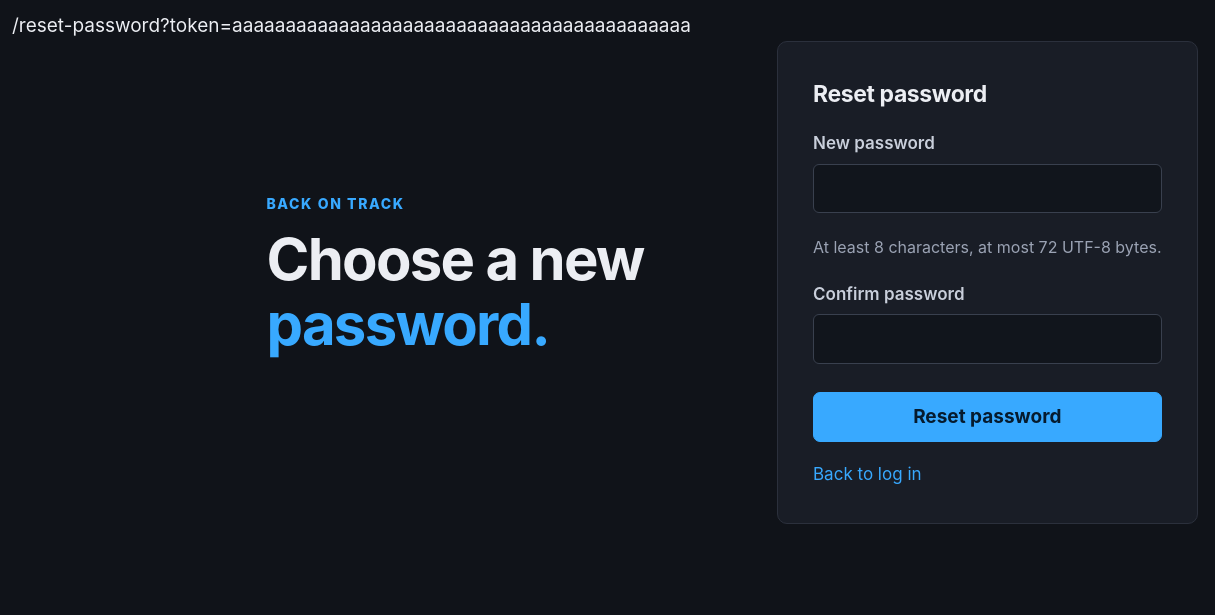
keeps the reset credential out of storage and validates confirmation
Type "new-password" into the password field labelled "New password".
click(987, 188); type("new-password")  # box 813,164 -> 1162,213
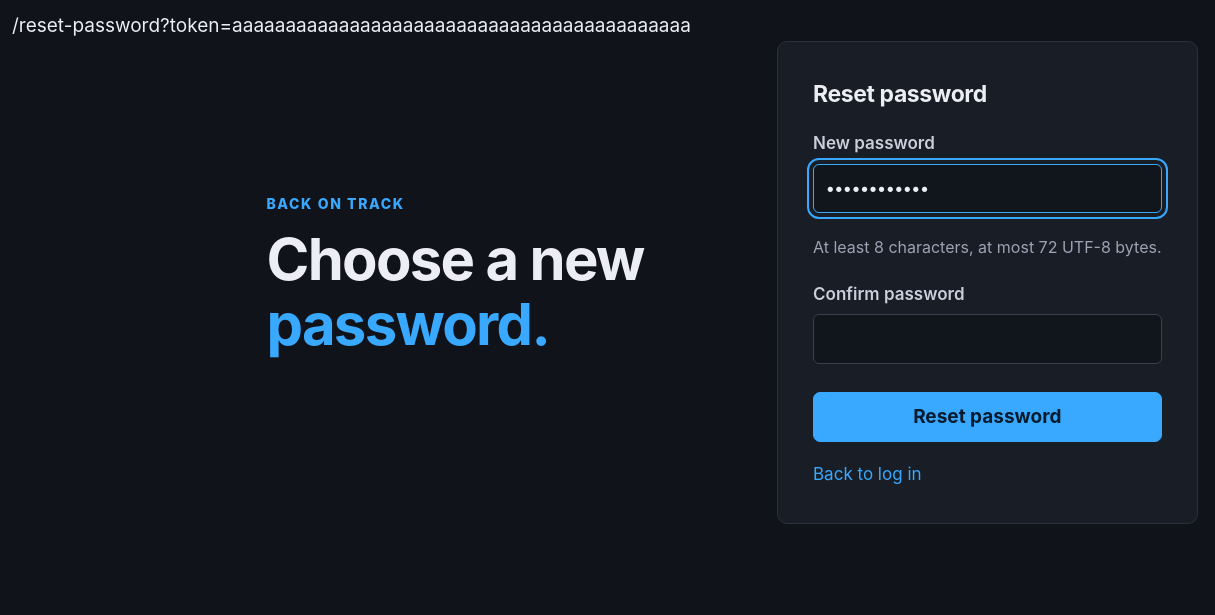
Type "different-password" into the password field labelled "Confirm password".
click(987, 339); type("different-password")  # box 813,314 -> 1162,364
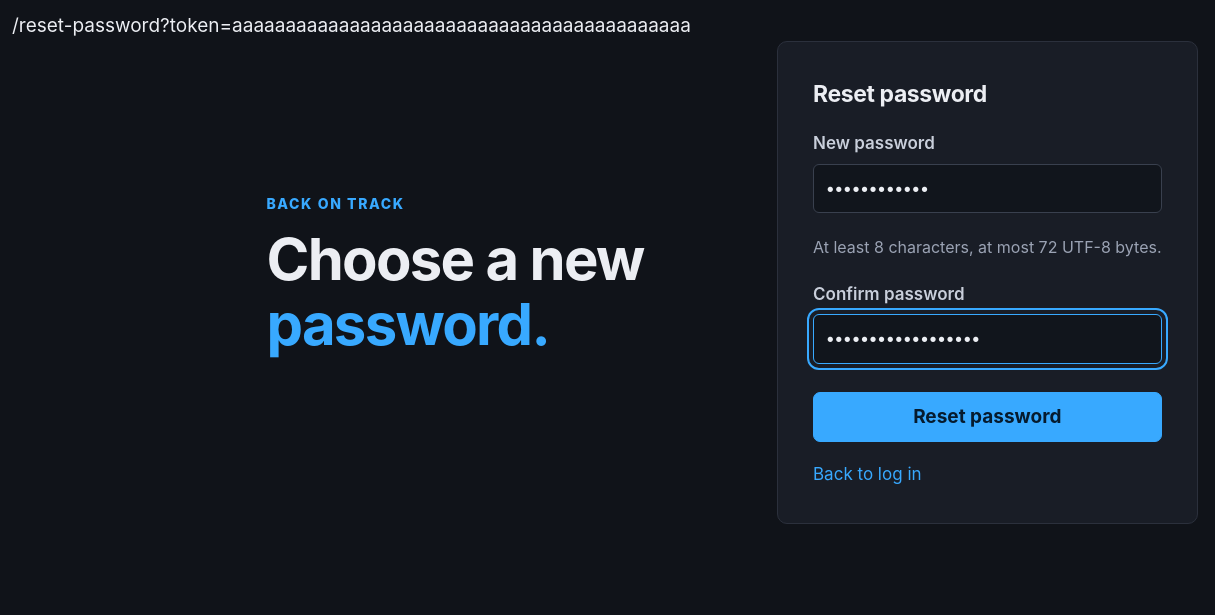
Click the button "Reset password".
click(987, 417)  # box 813,392 -> 1162,442
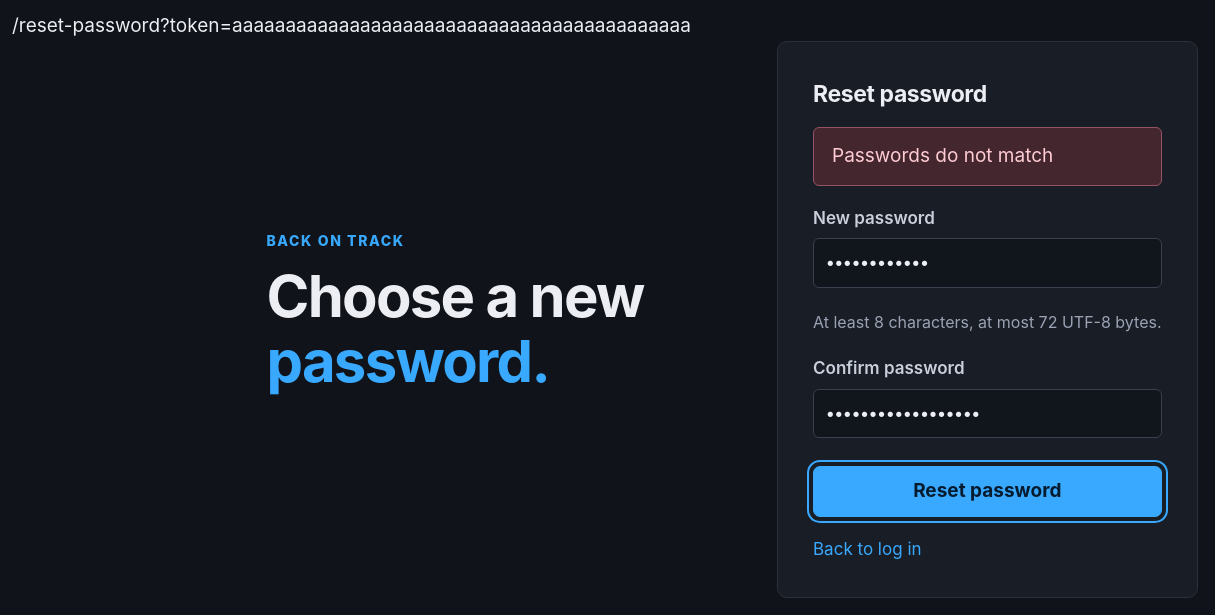
Now the message reads "Passwords do not match", box 832,144 -> 1053,167
